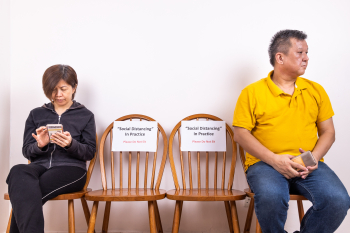Good: (6, 28, 350, 233)
